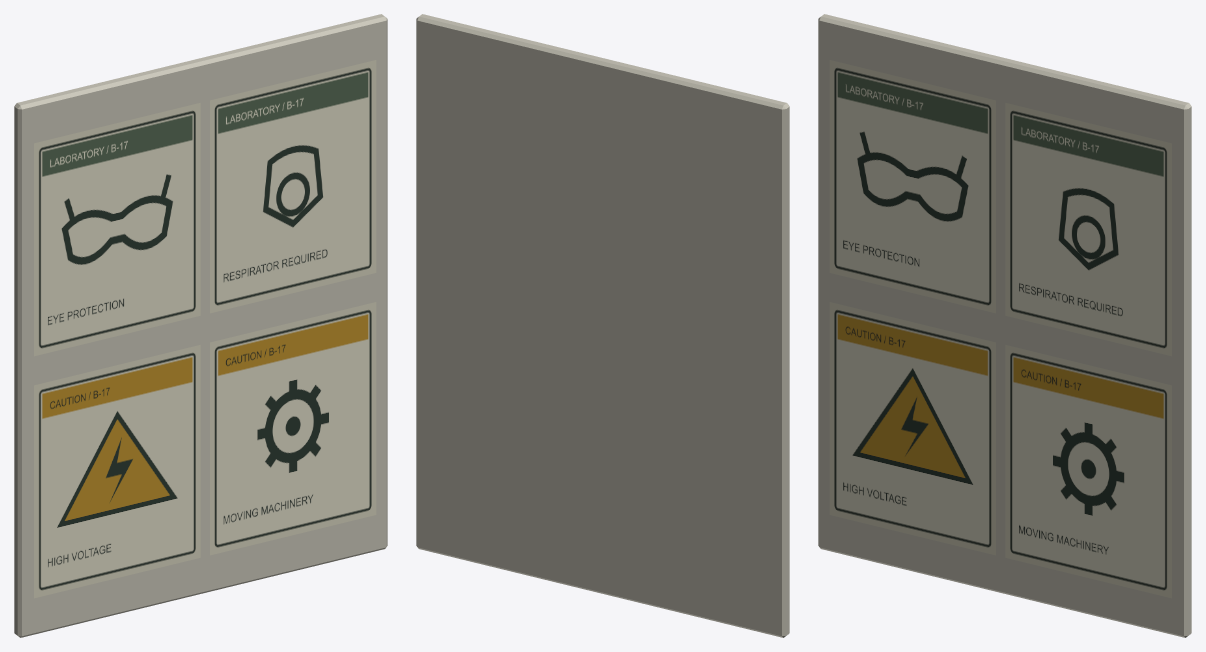
The model's file is safety_notice.glb.
The picture shows the model from 3 angles, left to right: view 1: azimuth 30°, elevation 25°; view 2: azimuth 150°, elevation 25°; view 3: azimuth 330°, elevation 25°; orthographic projection.
Visible parts, largest first — view 1: Original laboratory safety pictograms, Safety sign plate; view 2: Safety sign plate; view 3: Original laboratory safety pictograms, Safety sign plate.
Part boxes in pixels (<box>): Original laboratory safety pictograms: <box>34,60,376,598</box>; Safety sign plate: <box>14,14,387,637</box>; Safety sign plate: <box>416,14,789,637</box>; Original laboratory safety pictograms: <box>829,60,1171,598</box>; Safety sign plate: <box>818,14,1191,637</box>.
Size of the model in its own units: 0.8 by 1.1 by 0.0285.
Materials: 2 (1 with a texture image).
